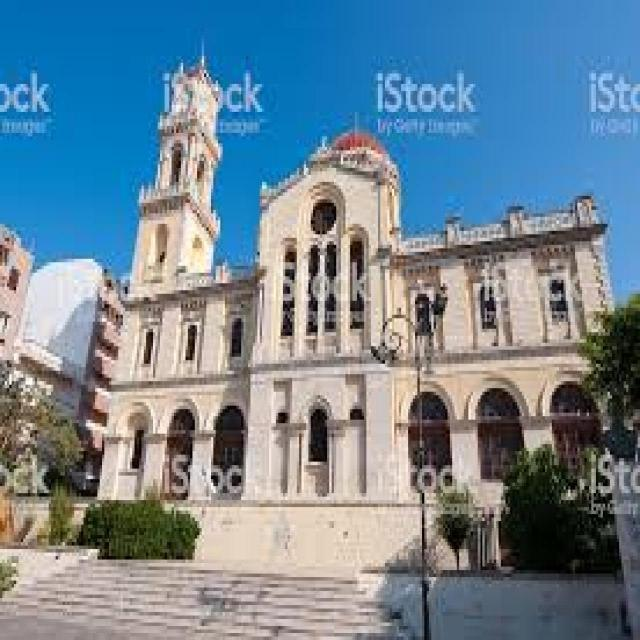Agios Minas: (101, 45, 621, 506)
